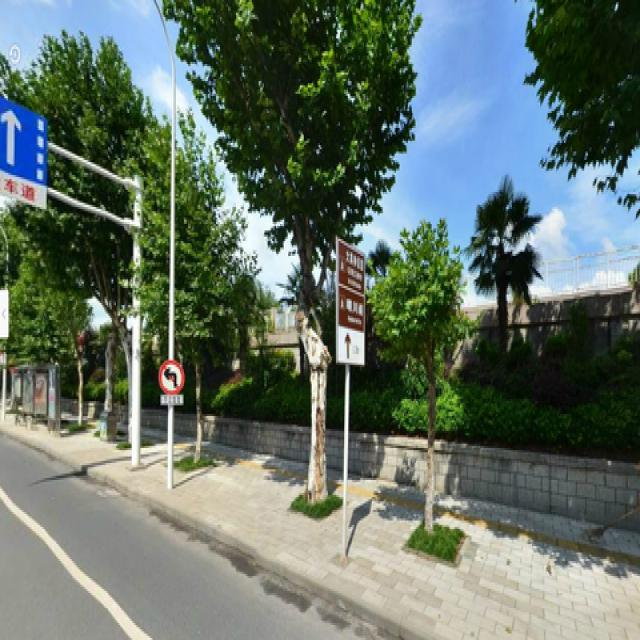meta: (216, 6, 364, 459)
